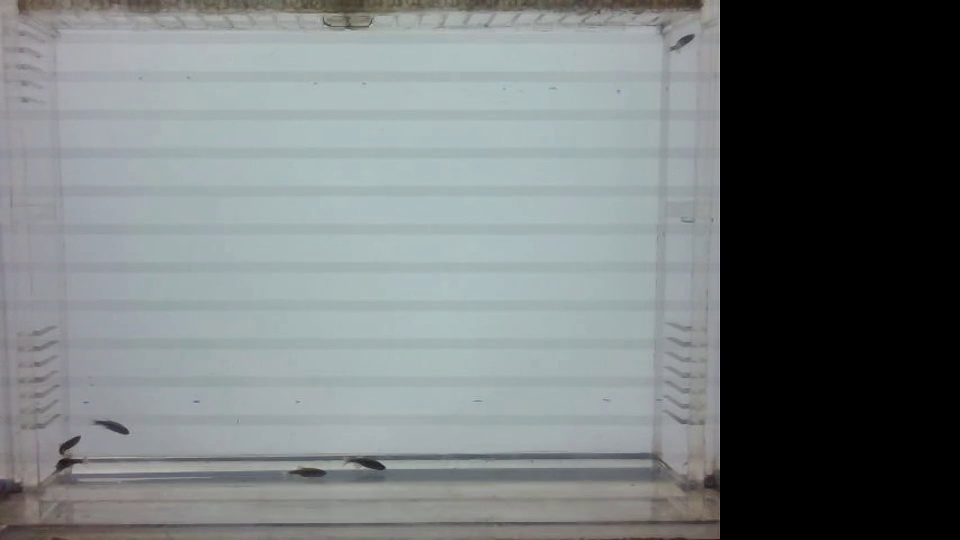fish: (336, 450, 392, 478), (88, 416, 128, 440), (284, 460, 328, 481), (668, 32, 700, 56), (54, 430, 80, 454), (52, 456, 78, 474)
